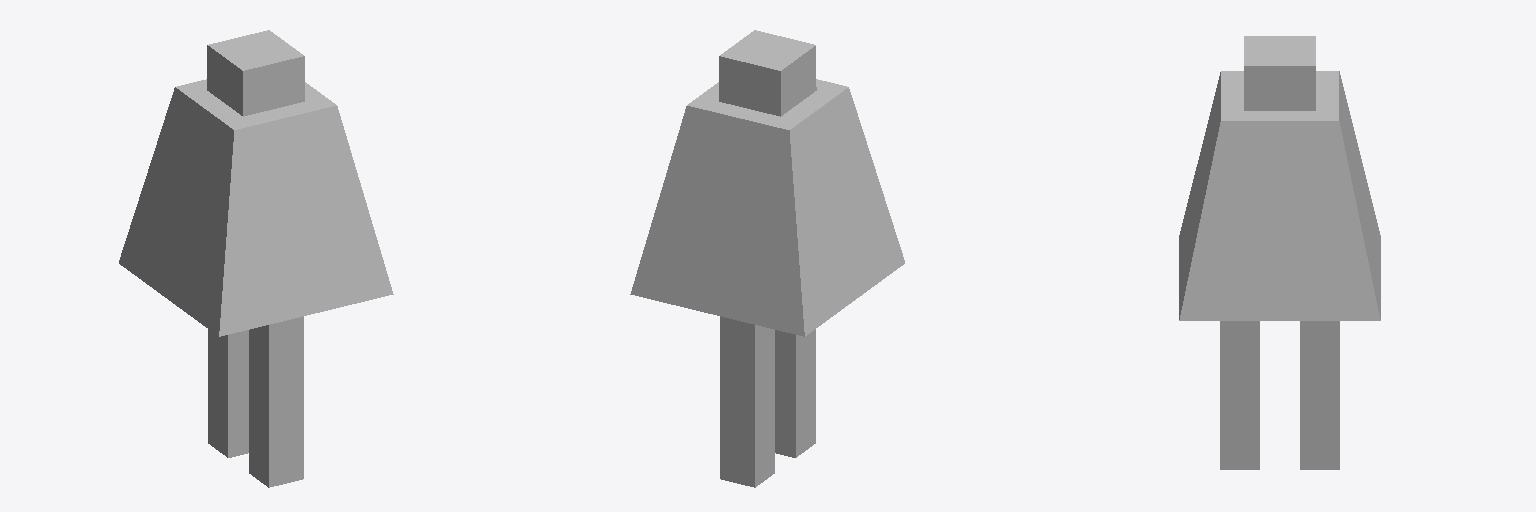
Rendered from essai-stand_000002.obj.
3 renders of one model, left to right at view 1: azimuth 30°, elevation 25°; view 2: azimuth 150°, elevation 25°; view 3: azimuth 270°, elevation 25°, orthographic.
Visible parts, largest first — view 1: Cube; view 2: Cube; view 3: Cube.
Part boxes in pixels (left/top/right/bottom): Cube: left=119, top=30, right=393, bottom=487; Cube: left=630, top=30, right=904, bottom=487; Cube: left=1179, top=36, right=1380, bottom=469.
Bounding box in the file's own units: 2 × 4.5 × 2.